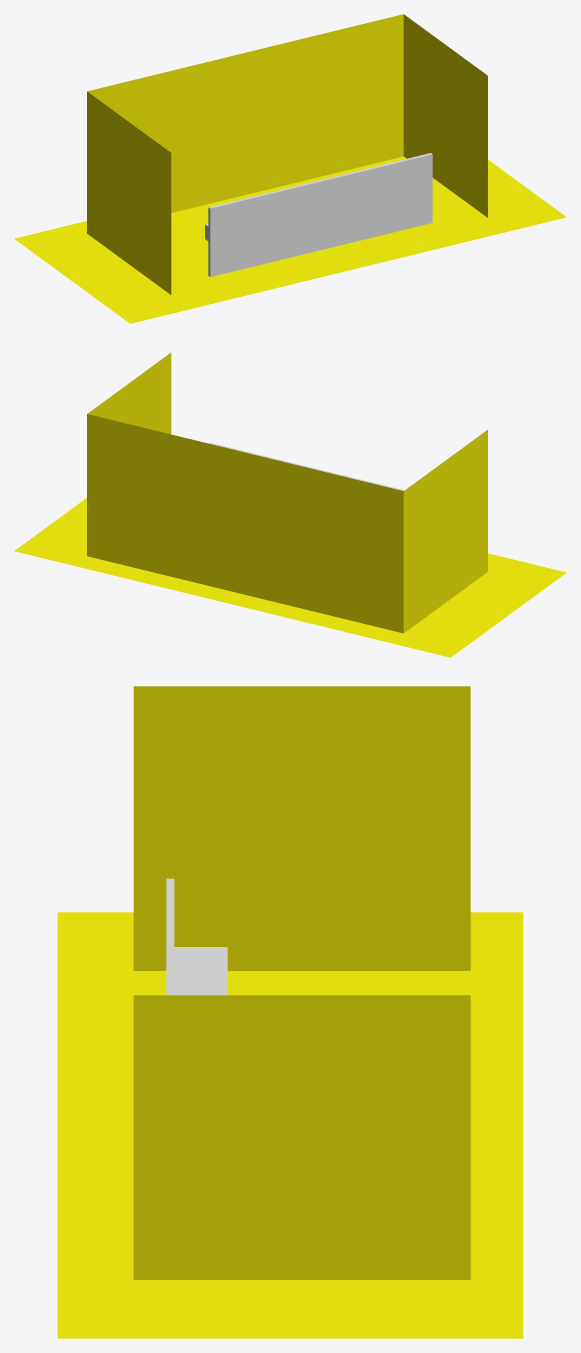
The model's file is sunline.dae.
The picture shows the model from 3 angles, top to bottom: view 1: azimuth 30°, elevation 25°; view 2: azimuth 150°, elevation 25°; view 3: azimuth 270°, elevation 25°; orthographic projection. The views are drawn at different scales.
Visible parts, largest first — view 1: pavilion, floor, screen, Cube; view 2: pavilion, floor; view 3: pavilion, floor, Cube (×2).
Part boxes in pixels (left/top/right/bottom): pavilion: left=87, top=14, right=487, bottom=294; floor: left=14, top=156, right=566, bottom=323; screen: left=210, top=164, right=432, bottom=276; Cube: left=208, top=153, right=432, bottom=276; pavilion: left=87, top=352, right=487, bottom=633; floor: left=14, top=498, right=566, bottom=657; pavilion: left=133, top=686, right=470, bottom=1279; floor: left=57, top=912, right=523, bottom=1338; Cube (×2): left=166, top=878, right=227, bottom=995.
Size of the model in its own units: 19.2 by 5.98 by 8.86.
